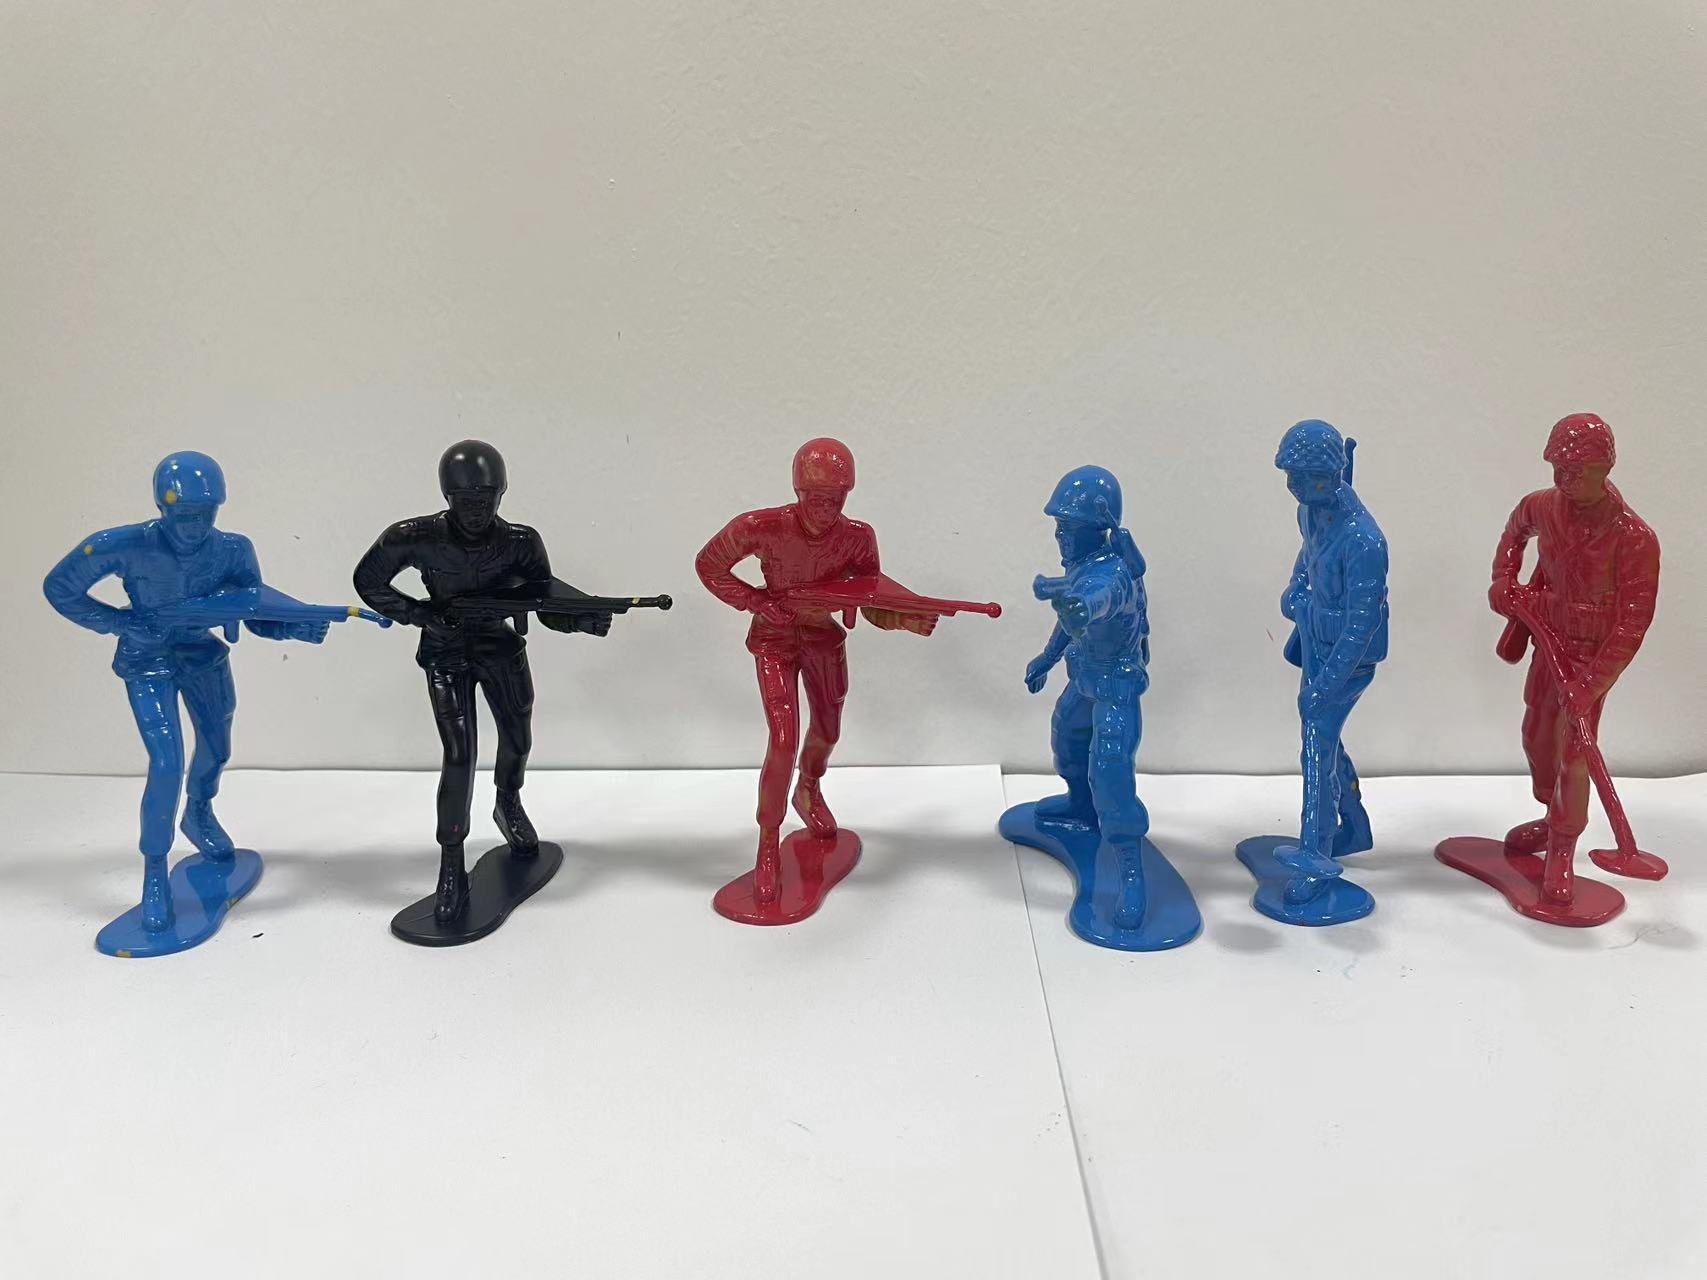black: (331, 430, 661, 996)
blue: (26, 415, 343, 1035), (997, 436, 1215, 1053), (1230, 376, 1437, 1014)
red: (673, 403, 1008, 963), (1456, 382, 1707, 1050)
